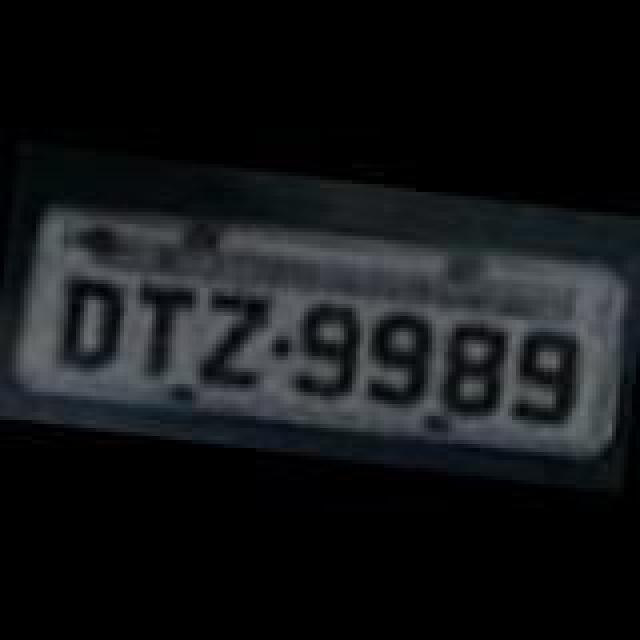8: (438, 314, 514, 422)
9: (358, 306, 442, 414), (506, 322, 582, 430), (294, 300, 370, 404)
D: (58, 274, 134, 382)
T: (126, 282, 194, 390)
Z: (192, 290, 272, 398)
